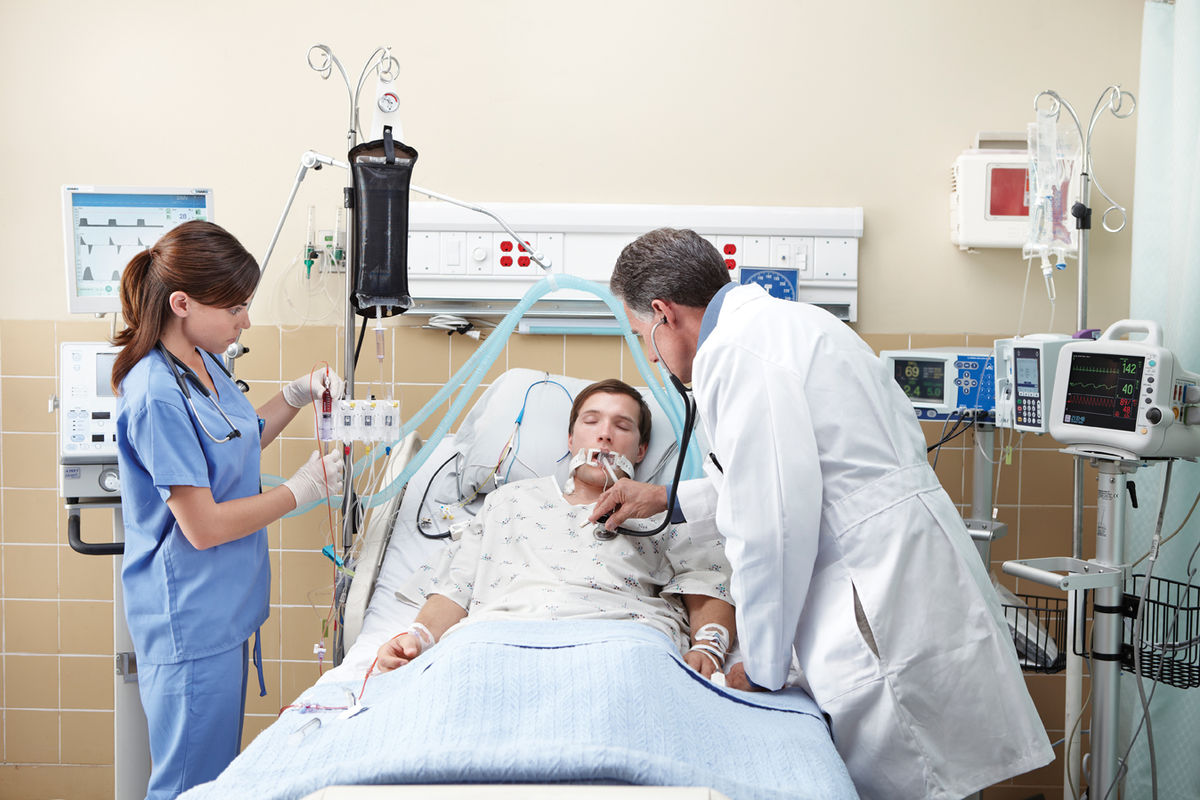bedrail: (337, 431, 423, 659)
bedside_monitor: (1044, 332, 1169, 464)
breathing_tube: (259, 272, 704, 540)
foot_board: (297, 784, 732, 800)
hospital_bed: (174, 368, 859, 800)
infusion_pump: (1009, 333, 1063, 462)
iv_pole: (1034, 82, 1137, 800), (305, 42, 401, 593)
medical_waste_container: (952, 120, 1084, 258)
patient: (377, 378, 736, 784)
staff: (599, 225, 1045, 799), (111, 219, 346, 800)
ventilator: (49, 185, 214, 800), (61, 341, 133, 542)
